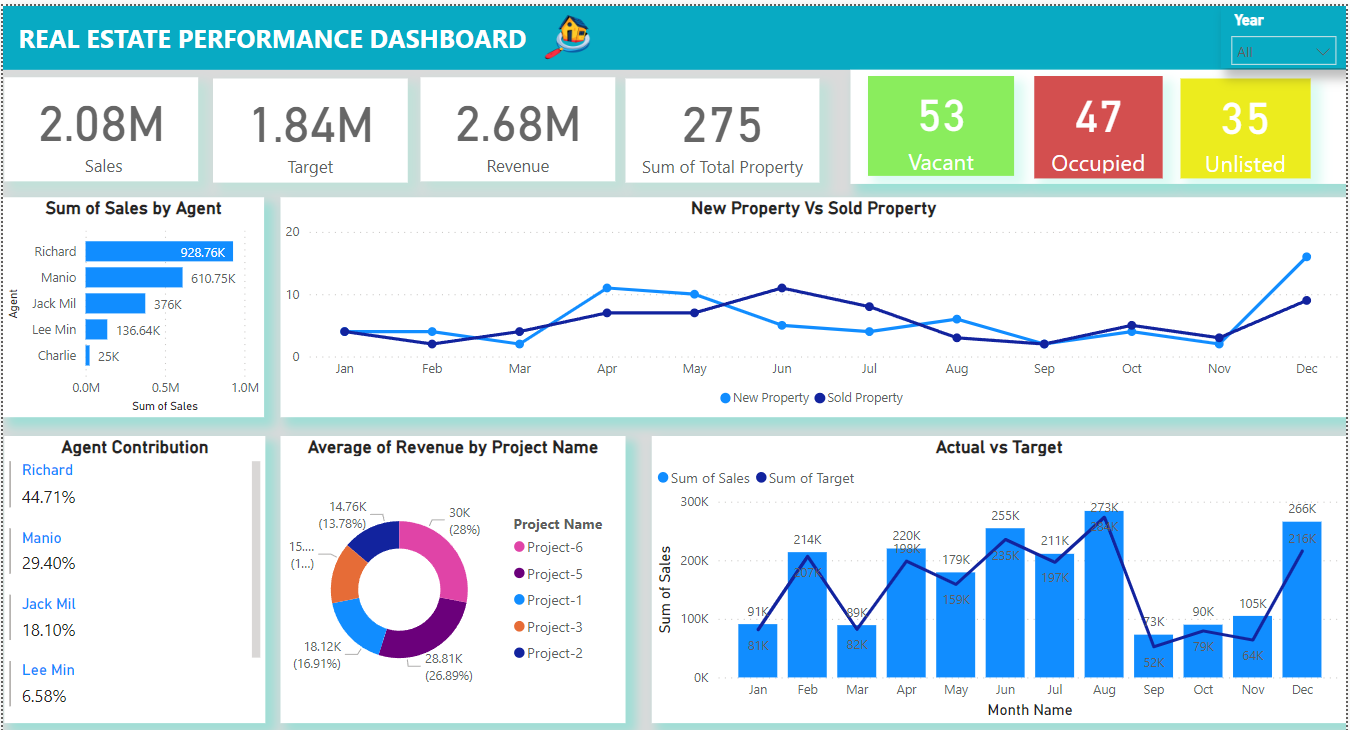

The dashboard page shown, as its layout file describes it:
{"tool":"powerbi","page":{"name":"Page 1","canvas":[1280,720],"ordinal":0},"visuals":[{"type":"shape","box":[0,0,1280.2,60.5],"z":0},{"type":"textbox","box":[0,9.9,513.6,50.6],"z":1000},{"type":"card","fields":{"Values":["Power BI Data Set Demo xlsx - Real Estate Data.Sales"]},"box":[1.2,67.9,184.6,98.9],"z":2000},{"type":"card","fields":{"Values":["Power BI Data Set Demo xlsx - Real Estate Data.Target"]},"box":[200.1,69.1,185.8,98.9],"z":3000},{"type":"card","fields":{"Values":["Power BI Data Set Demo xlsx - Real Estate Data.Revenue"]},"box":[397.8,67.9,185.8,98.9],"z":4000},{"type":"textbox","box":[807.4,60.5,472.8,108.6],"z":5000},{"type":"card","fields":{"Values":["Power BI Data Set Demo xlsx - Real Estate Data.Total Property"]},"box":[593.2,69.1,184.6,98.9],"z":6000},{"type":"card","fields":{"Values":["Power BI Data Set Demo xlsx - Real Estate Data.Property Status"]},"box":[824.3,66.7,139.4,95.3],"z":7000},{"type":"card","fields":{"Values":["Power BI Data Set Demo xlsx - Real Estate Data.Property Status"]},"box":[982.7,66.7,122.7,97.7],"z":8000},{"type":"card","fields":{"Values":["Power BI Data Set Demo xlsx - Real Estate Data.Property Status"]},"box":[1122.1,69.1,123.9,95.3],"z":9000},{"type":"barChart","fields":{"Y":["Power BI Data Set Demo xlsx - Real Estate Data.Sales"],"Category":["Power BI Data Set Demo xlsx - Real Estate Data.Agent"]},"box":[0,182.2,248.9,209.6],"z":10000},{"type":"lineChart","title":"New Property Vs Sold Property ","fields":{"Category":["DimDate.Month Name"],"Y":["Power BI Data Set Demo xlsx - Real Estate Data.New Property","Power BI Data Set Demo xlsx - Real Estate Data.Sold Property"]},"box":[264.4,182.2,1016,209.6],"z":11000},{"type":"multiRowCard","title":"Agent Contribution","fields":{"Values":["Power BI Data Set Demo xlsx - Real Estate Data.Agent contribution","Power BI Data Set Demo xlsx - Real Estate Data.Agent"]},"box":[1.2,409.8,248.9,274],"z":12000},{"type":"donutChart","fields":{"Category":["Power BI Data Set Demo xlsx - Real Estate Data.Project Name"],"Y":["Power BI Data Set Demo xlsx - Real Estate Data.Revenue"]},"box":[264.4,409.8,328.8,274],"z":12001},{"type":"lineStackedColumnComboChart","title":"Actual vs Target","fields":{"Category":["DimDate.Month Name"],"Y":["Power BI Data Set Demo xlsx - Real Estate Data.Sales"],"Y2":["Power BI Data Set Demo xlsx - Real Estate Data.Target"]},"box":[618.2,409.8,662.3,274],"z":12002},{"type":"image","box":[505,0,65.5,59.6],"z":12003},{"type":"slicer","fields":{"Values":["DimDate.Year"]},"box":[1160.2,0,120.3,59.6],"z":12004}]}

Visuals, with their boxes on the page's 1280x720 design canvas (x1, y1, x2, y2). These are canvas units, not pixel positions in the 1350x730 screenshot, which may show the page scaled, cropped or inside an application window:
shape: 0, 0, 1280, 60
textbox: 0, 10, 514, 60
card - Power BI Data Set Demo xlsx - Real Estate Data.Sales: 1, 68, 186, 167
card - Power BI Data Set Demo xlsx - Real Estate Data.Target: 200, 69, 386, 168
card - Power BI Data Set Demo xlsx - Real Estate Data.Revenue: 398, 68, 584, 167
textbox: 807, 60, 1280, 169
card - Power BI Data Set Demo xlsx - Real Estate Data.Total Property: 593, 69, 778, 168
card - Power BI Data Set Demo xlsx - Real Estate Data.Property Status: 824, 67, 964, 162
card - Power BI Data Set Demo xlsx - Real Estate Data.Property Status: 983, 67, 1105, 164
card - Power BI Data Set Demo xlsx - Real Estate Data.Property Status: 1122, 69, 1246, 164
barChart - Power BI Data Set Demo xlsx - Real Estate Data.Sales x Power BI Data Set Demo xlsx - Real Estate Data.Agent: 0, 182, 249, 392
"New Property Vs Sold Property " lineChart: 264, 182, 1280, 392
"Agent Contribution" multiRowCard: 1, 410, 250, 684
donutChart - Power BI Data Set Demo xlsx - Real Estate Data.Project Name x Power BI Data Set Demo xlsx - Real Estate Data.Revenue: 264, 410, 593, 684
"Actual vs Target" lineStackedColumnComboChart: 618, 410, 1280, 684
image: 505, 0, 570, 60
slicer - DimDate.Year: 1160, 0, 1280, 60
